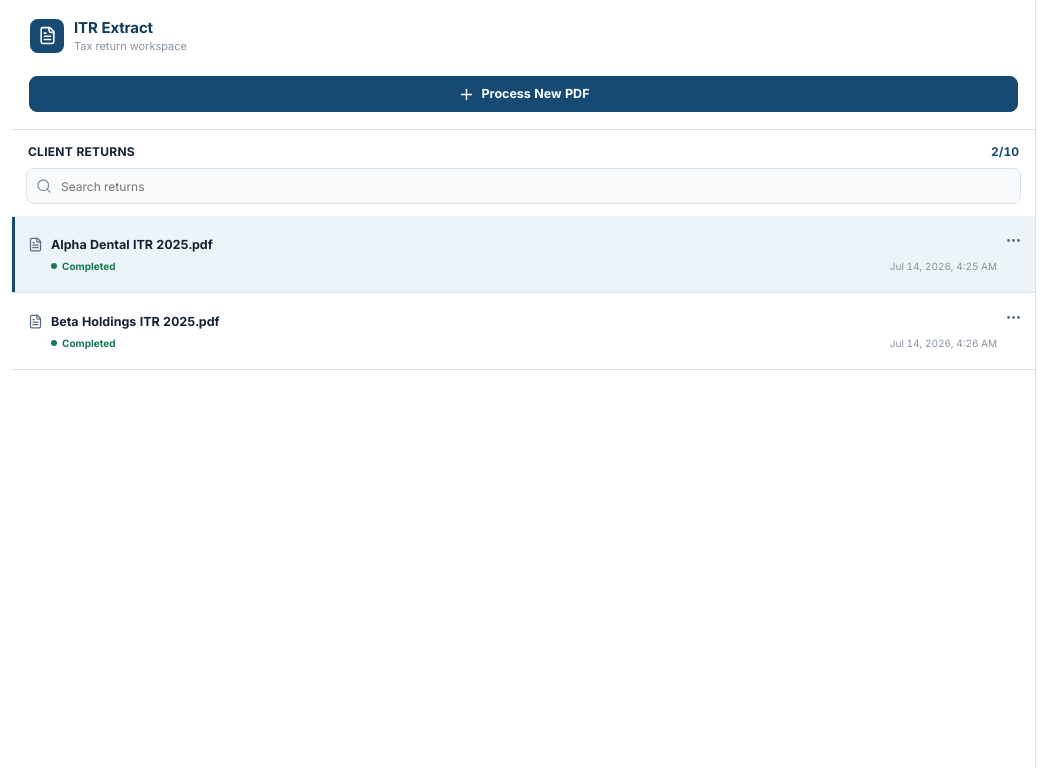
JobHistory accountant workspace › filters returns by filename on the client
This screenshot has width=1048, height=768.
Type "alpha" into the search field labelled "Search returns" at [524, 186], box [26,168,1021,204]
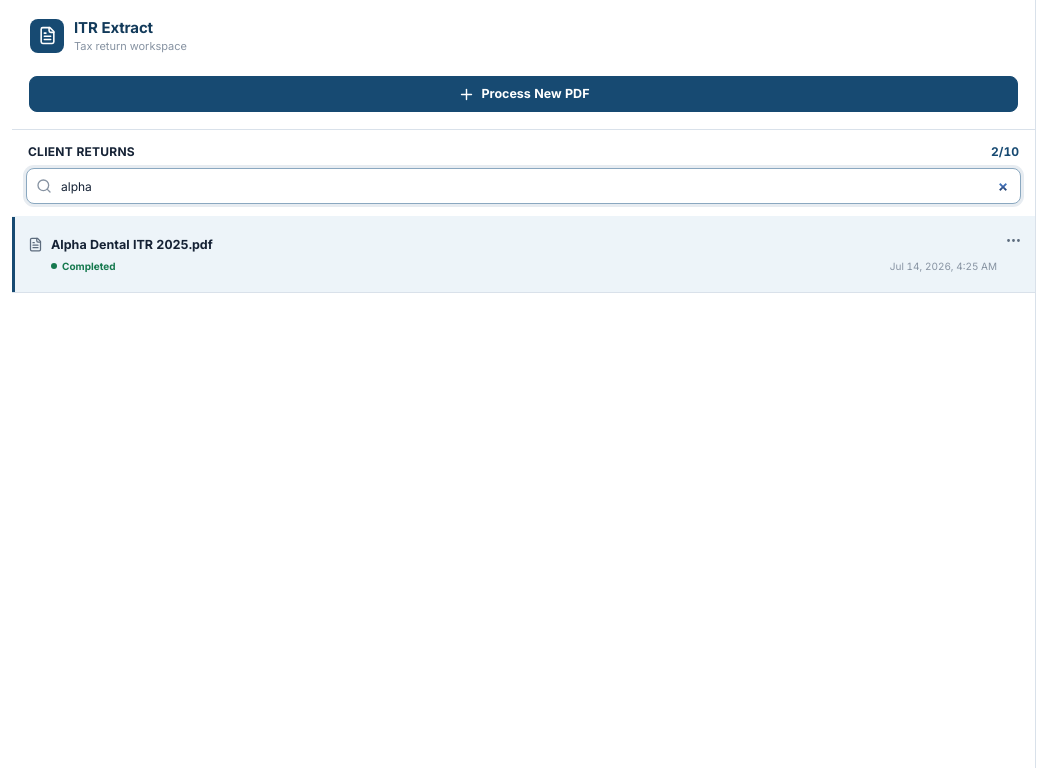
Expected: the text "Alpha Dental ITR 2025.pdf" is shown, [51,237,213,252]
Expected: the button "Beta Holdings ITR 2025.pdf" is gone
